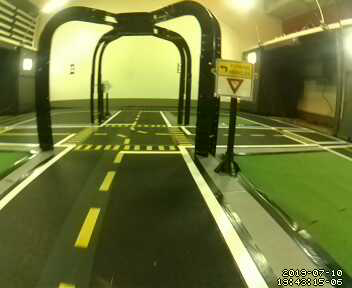Turn Yield: (215, 60, 252, 99)
